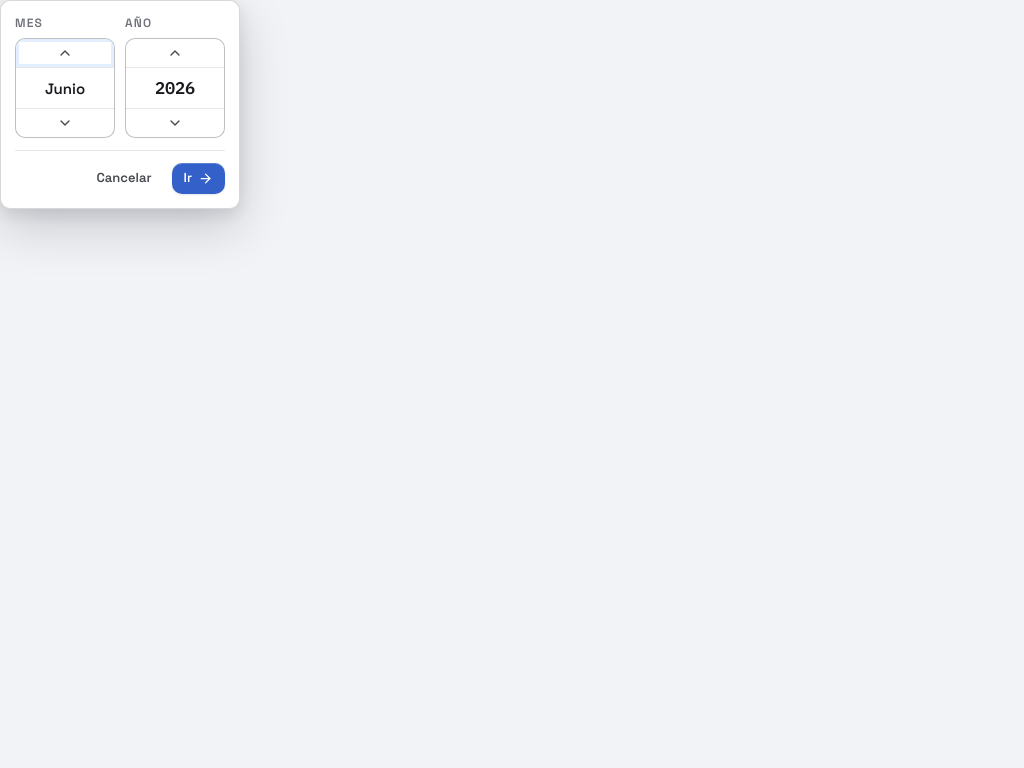
Test: MonthJumpPanel › ▼ del mes decrementa el mes
Expected: the dialog is shown, [0,0,240,209]
Click the button named "Mes anterior".
click(65, 123)  # box [16,109,114,137]
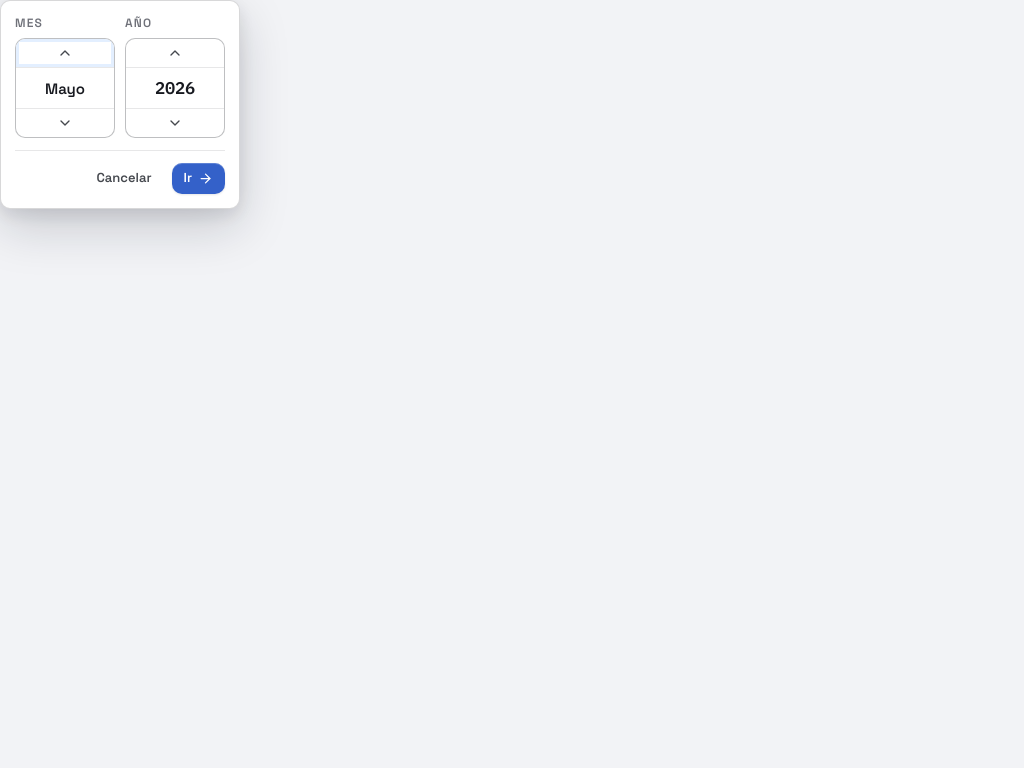
Result: the text "Mayo" is shown at [45,78,85,98]
